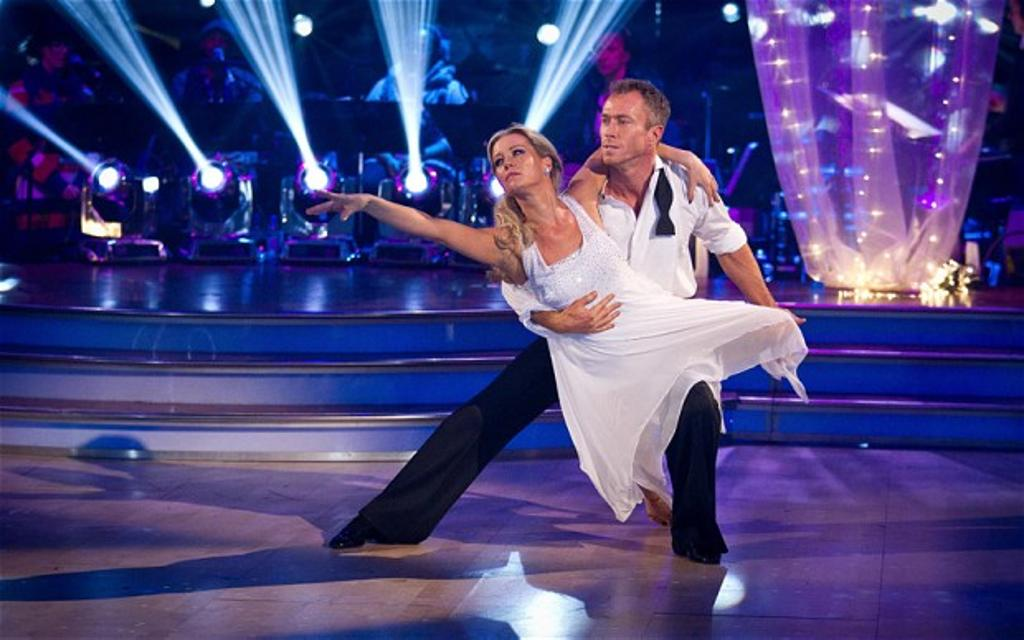face: (594, 90, 648, 168), (486, 126, 542, 194)
